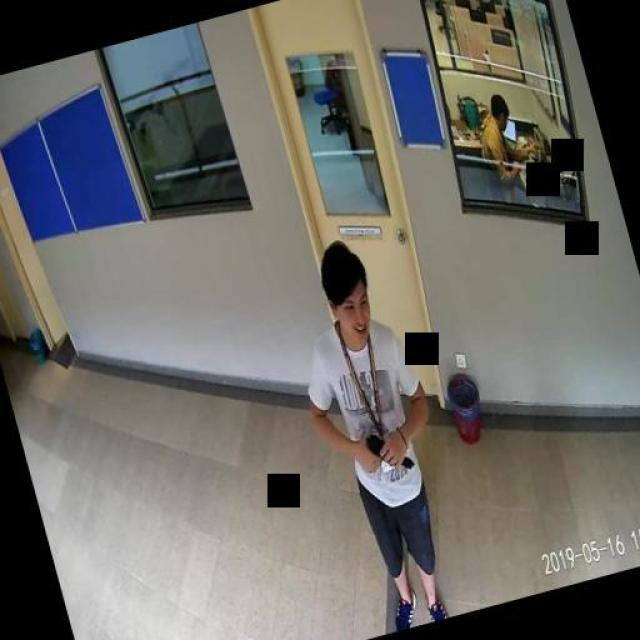gun: (362, 423, 412, 478)
